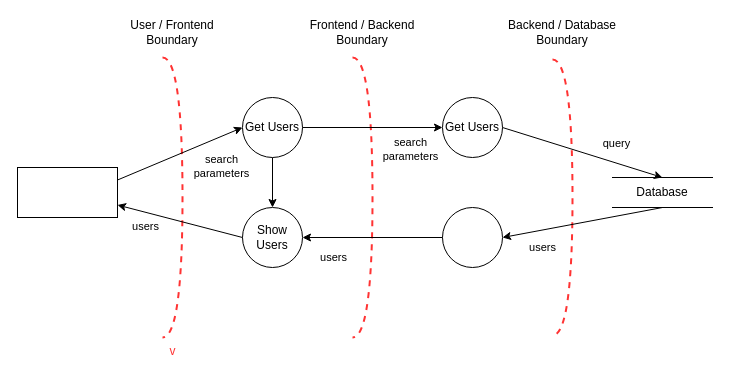
Image size: 730x375. Some labels were removed from this diagram. Each missing label, with the centre of its shape:
Admin: pixel 67 192
Return Users: pixel 472 237
